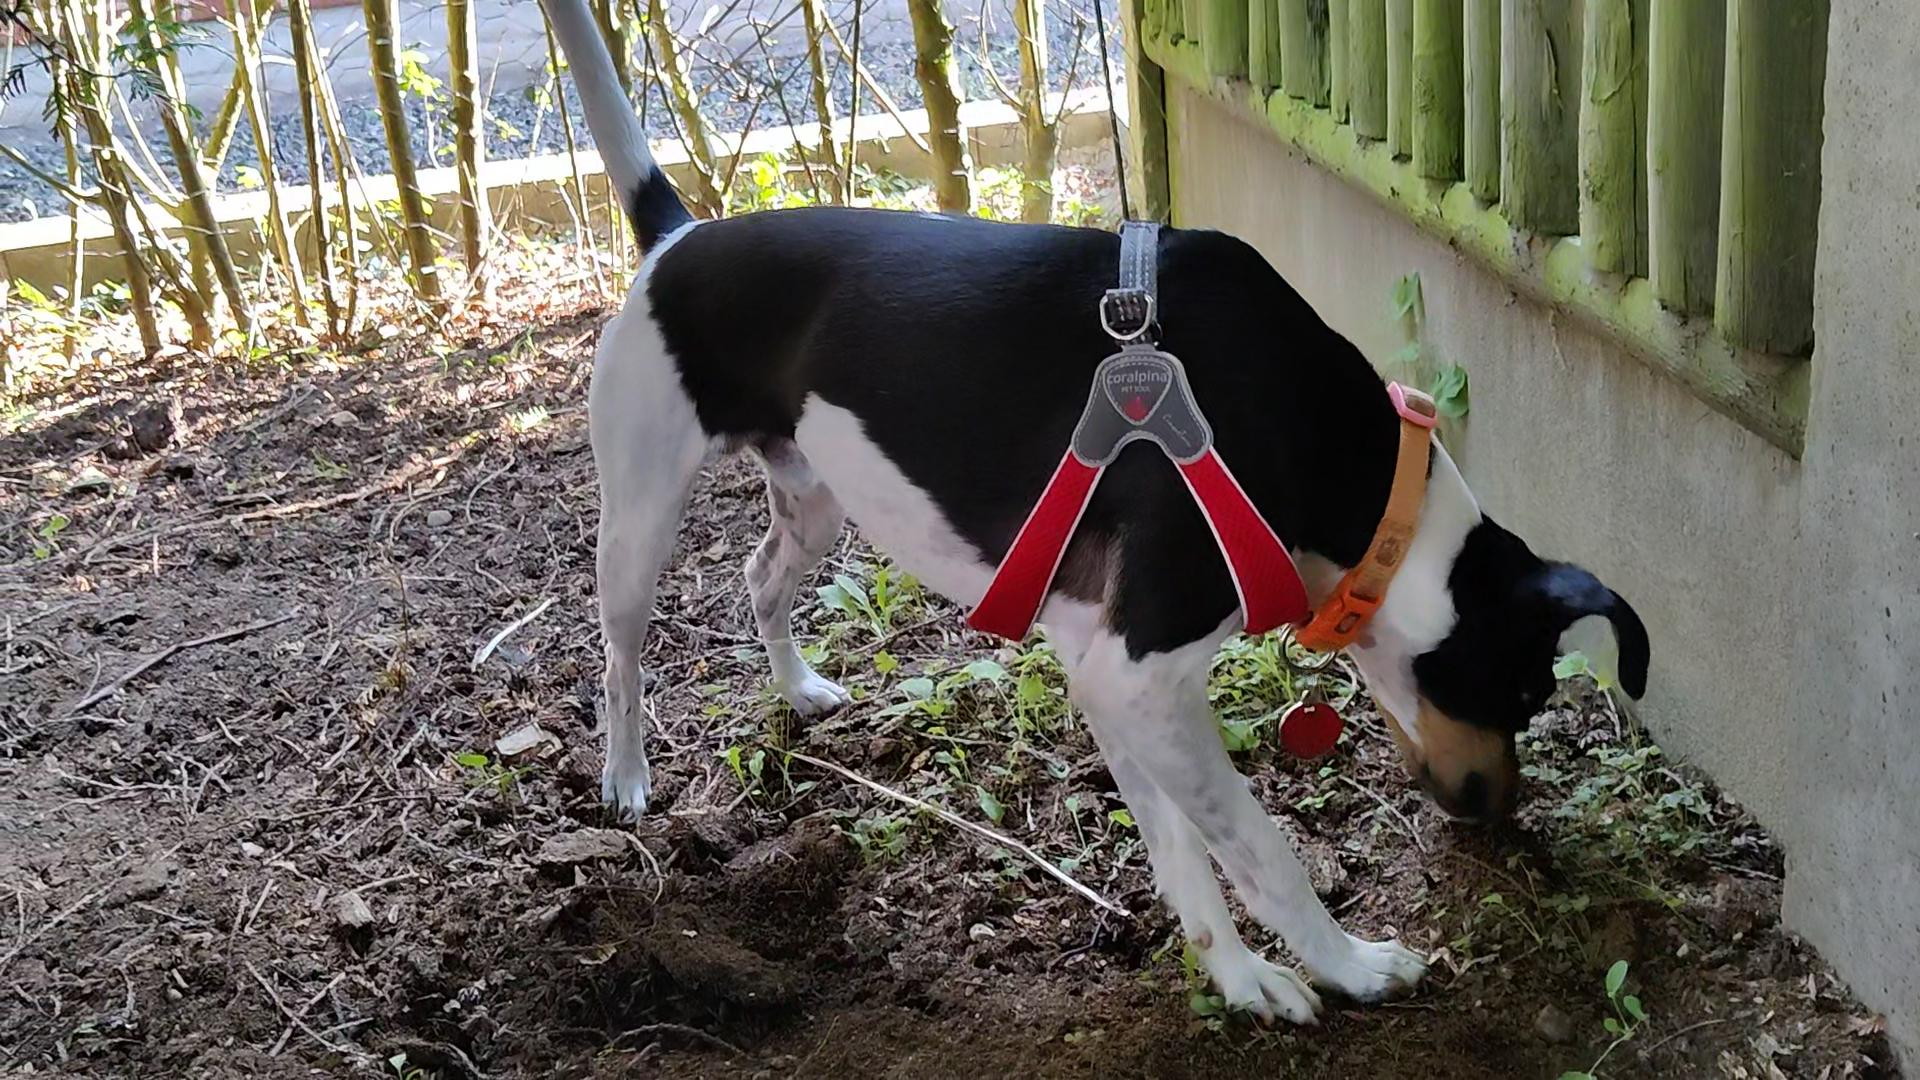Dog: (506, 0, 1671, 1044)
